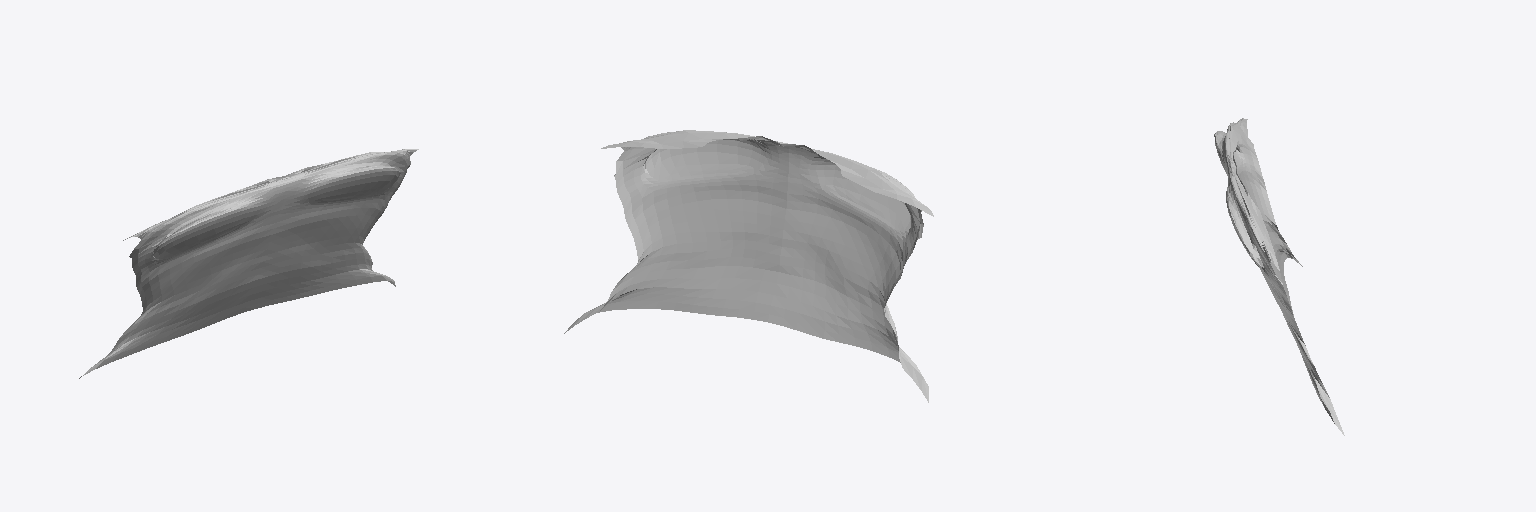
The model's file is deformed_alpha_15_ModelRot.obj.
3 renders of one model, left to right at view 1: azimuth 30°, elevation 25°; view 2: azimuth 150°, elevation 25°; view 3: azimuth 270°, elevation 25°, orthographic.
Size of the model in its own units: 0.6988 by 0.376 by 0.23.